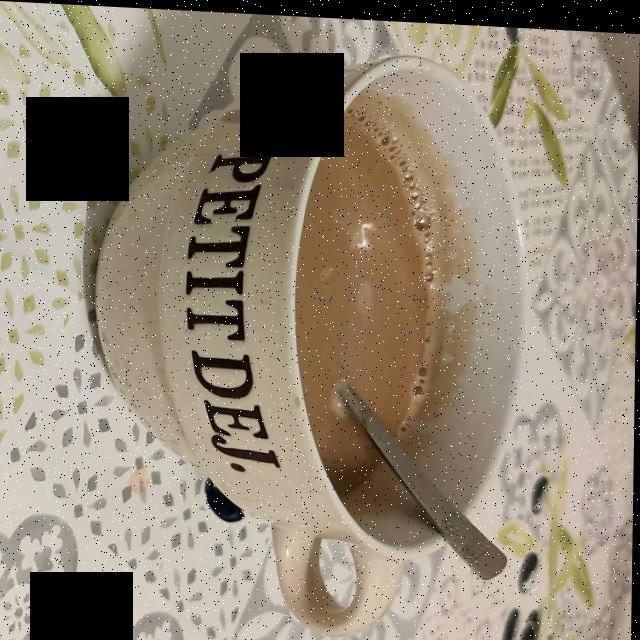coffee: (300, 108, 442, 482)
